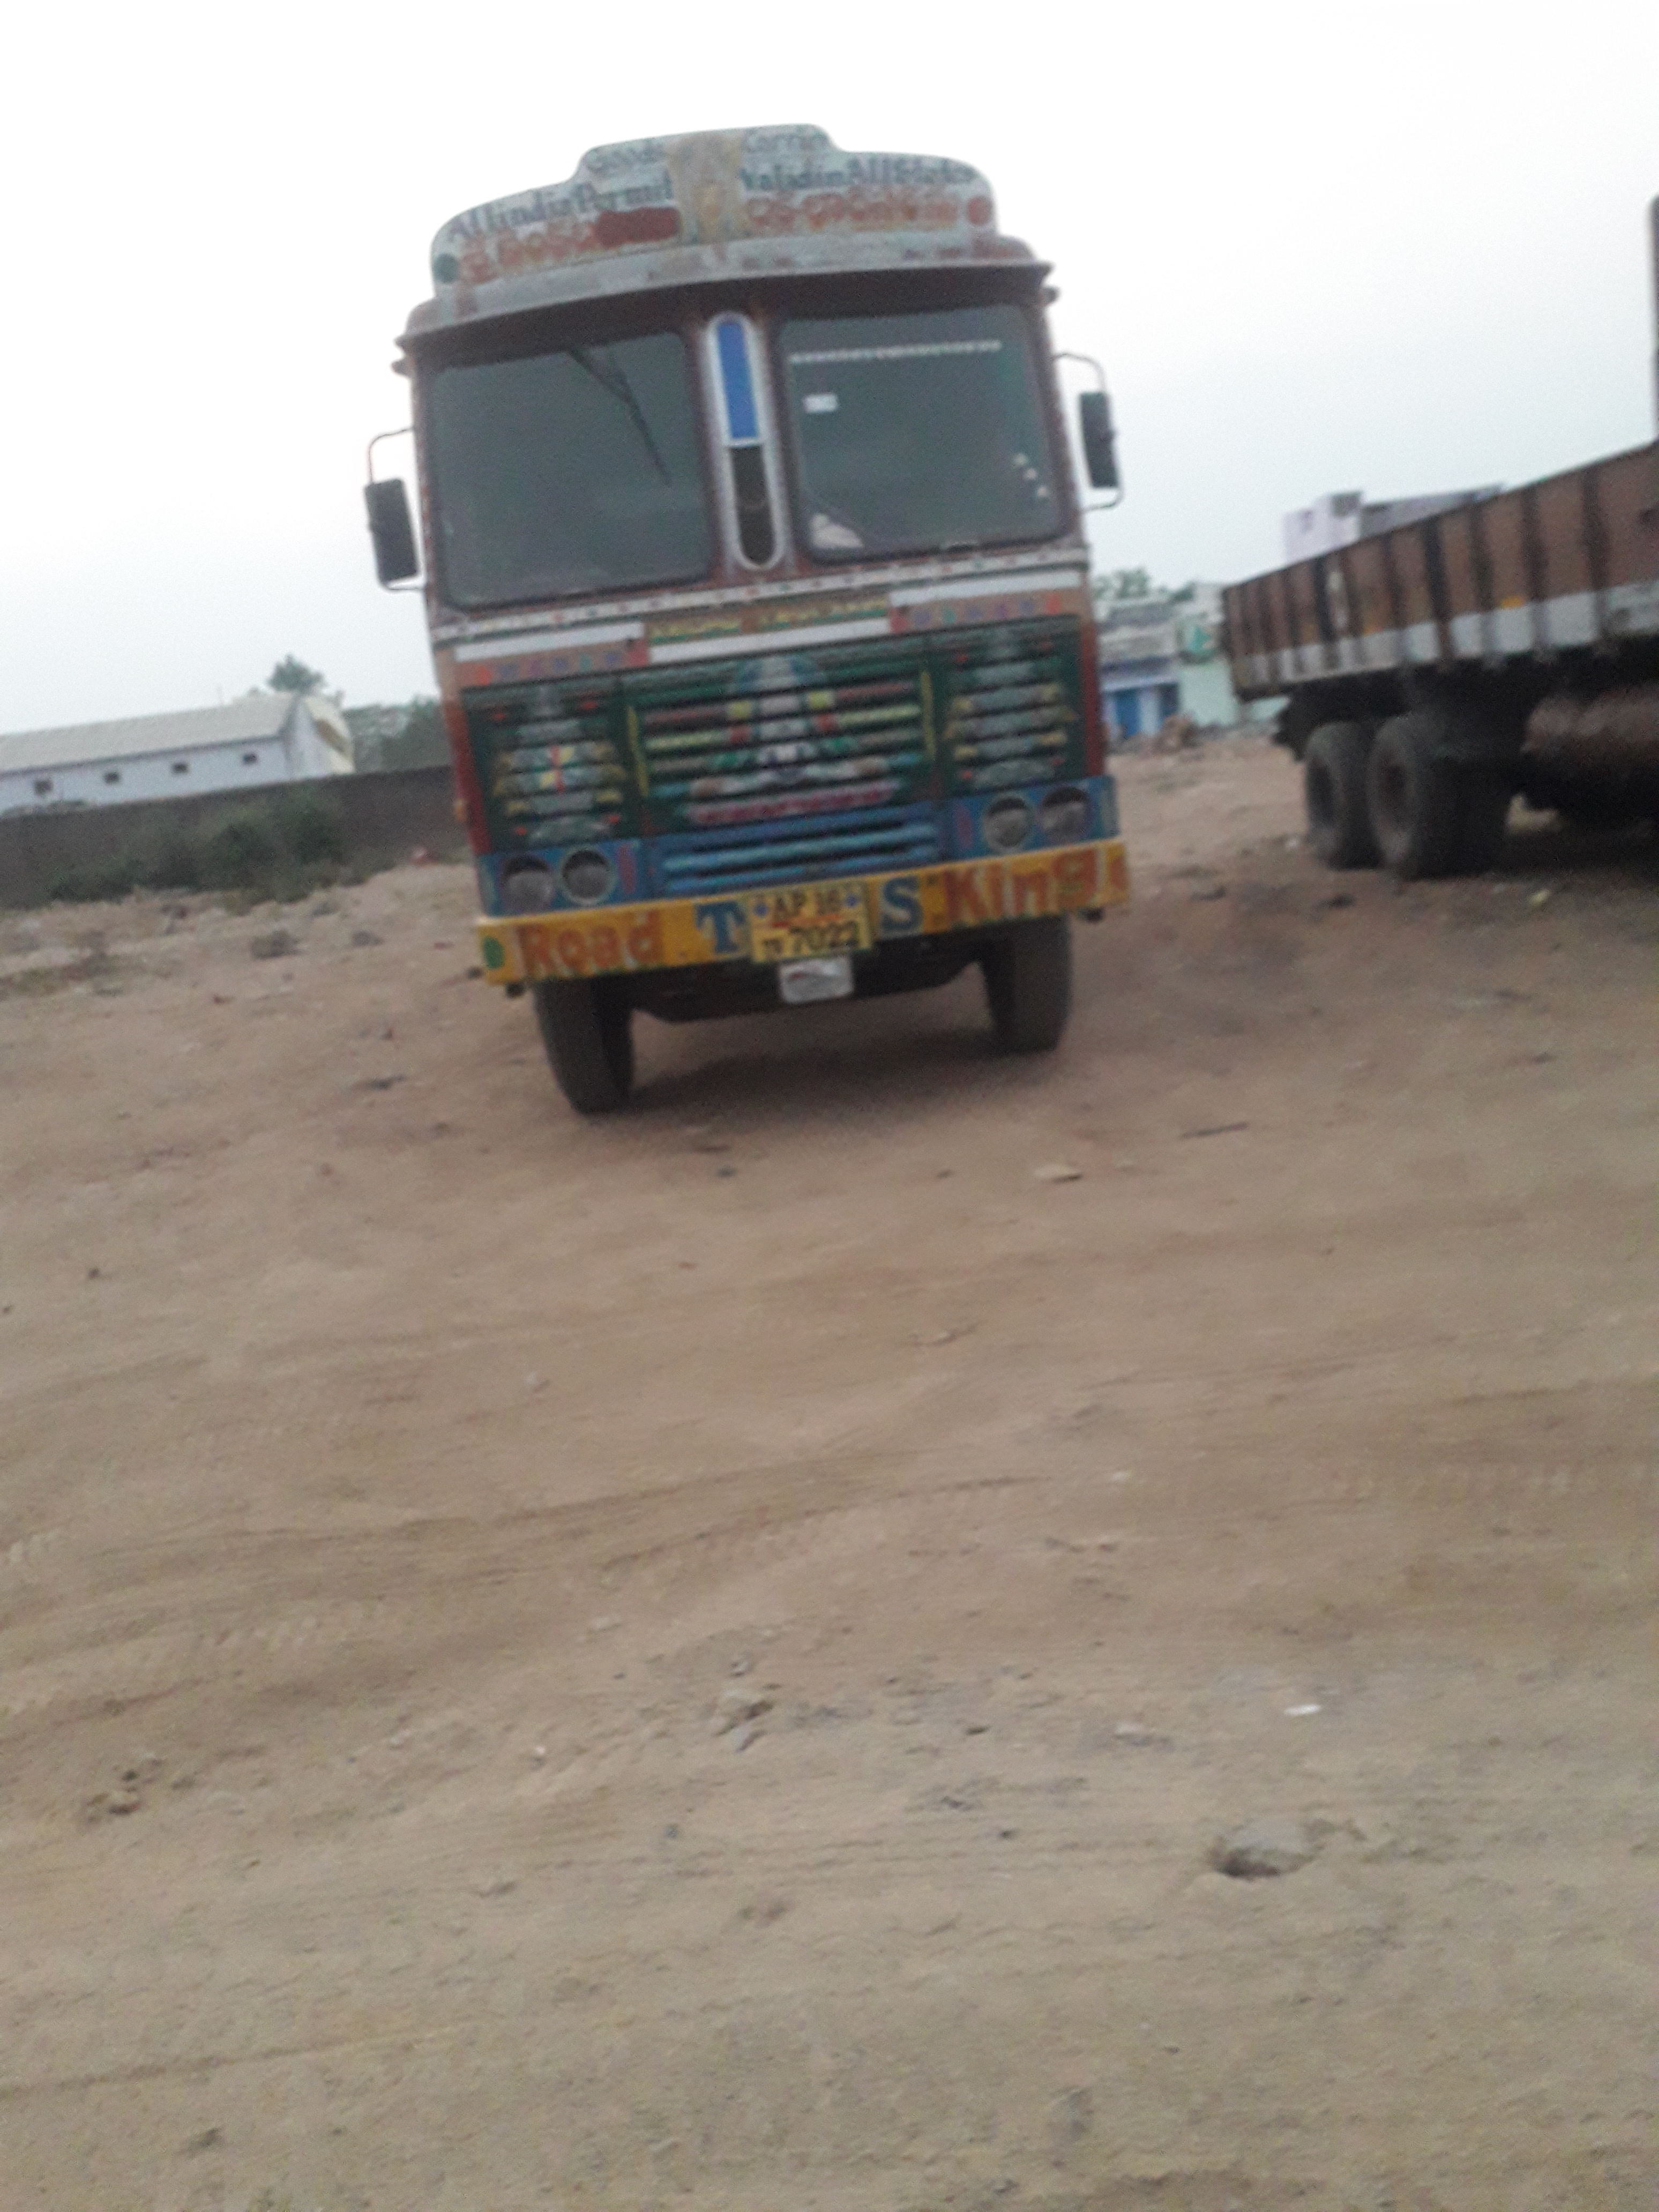truck: (364, 113, 1140, 1120), (1209, 402, 1659, 890)
